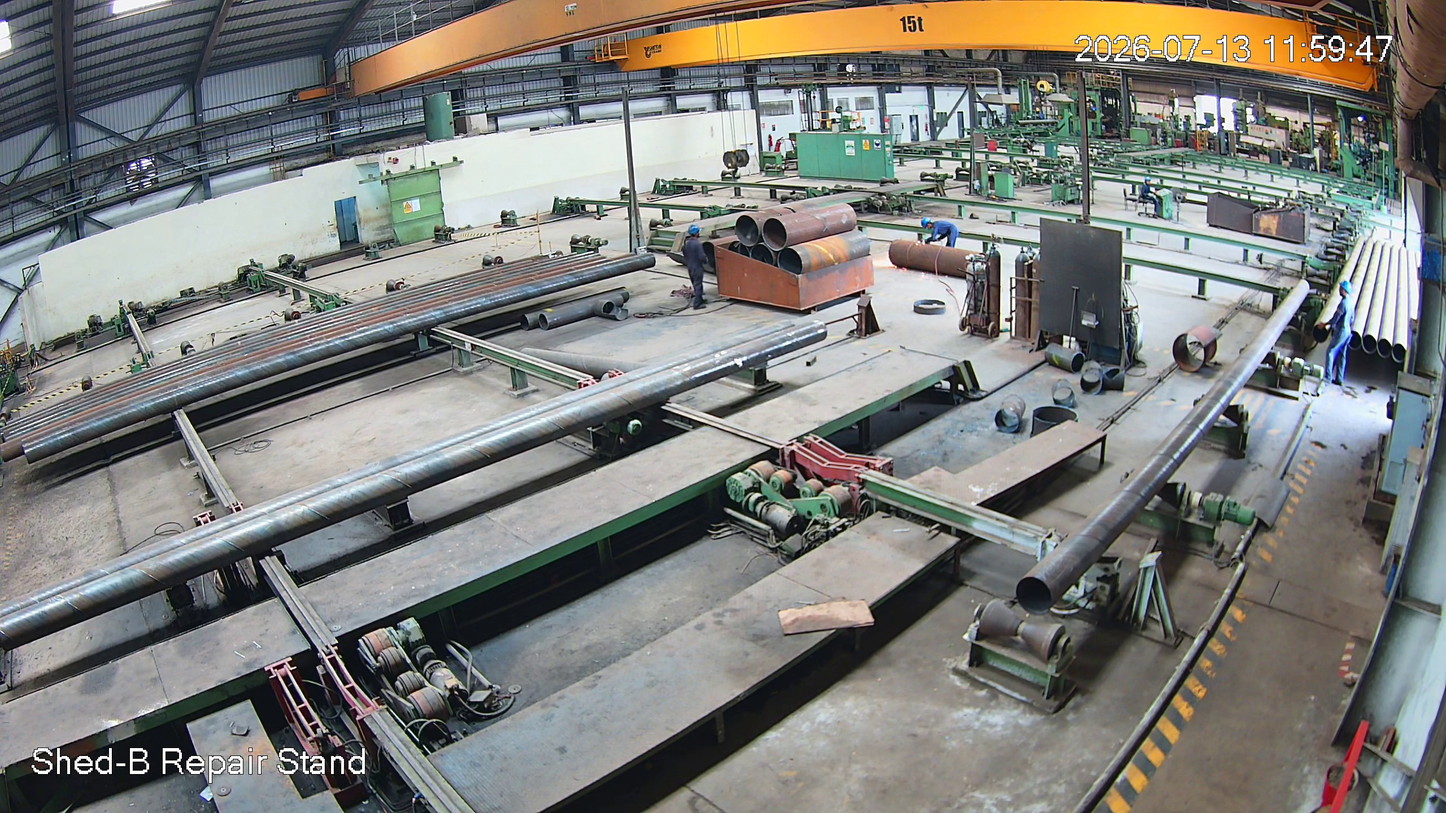Helmet: (1336, 280, 1357, 304)
Person: (1321, 281, 1357, 391)
